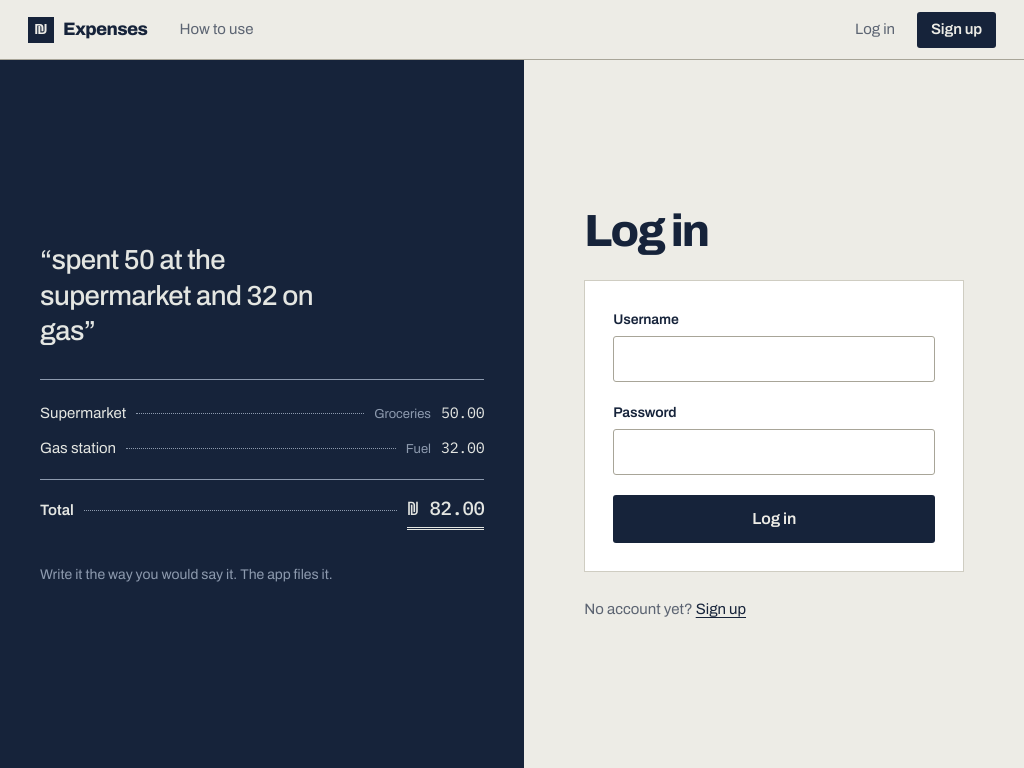
Scenario: LoginPage › shows one generic message when the credentials are wrong
This screenshot has width=1024, height=768.
Type "adam" into the field labelled "Username".
click(774, 359); type("adam")  # box [613,336,935,382]
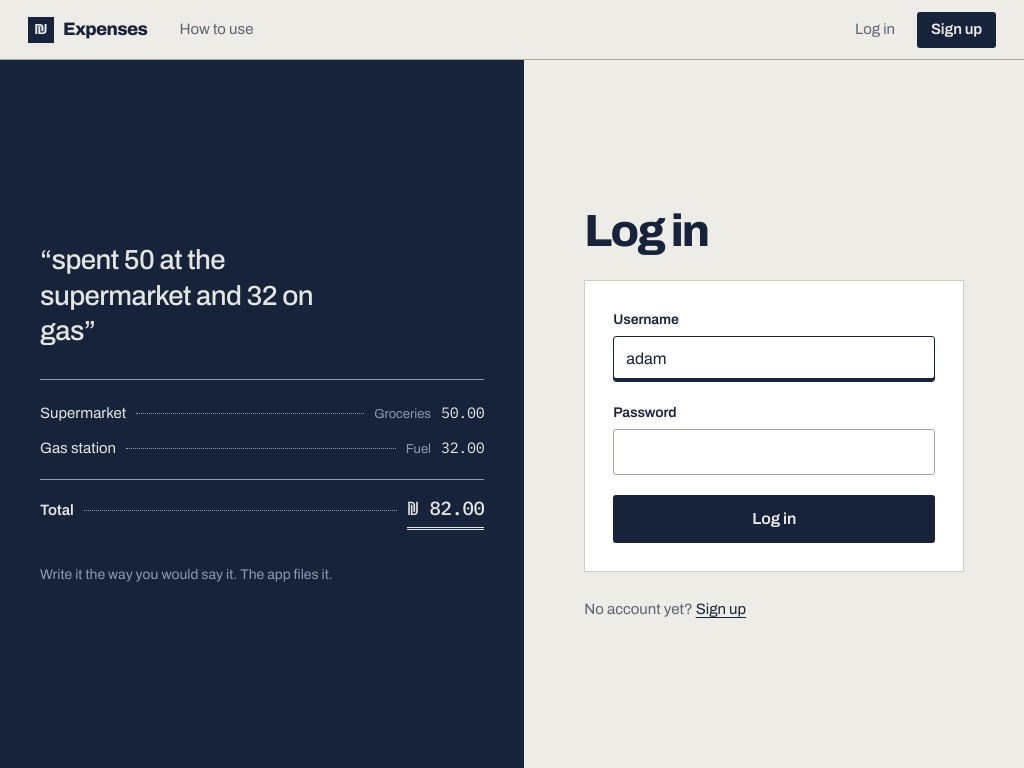
Type "wrong" into the password field labelled "Password".
click(774, 452); type("wrong")  # box [613,429,935,475]
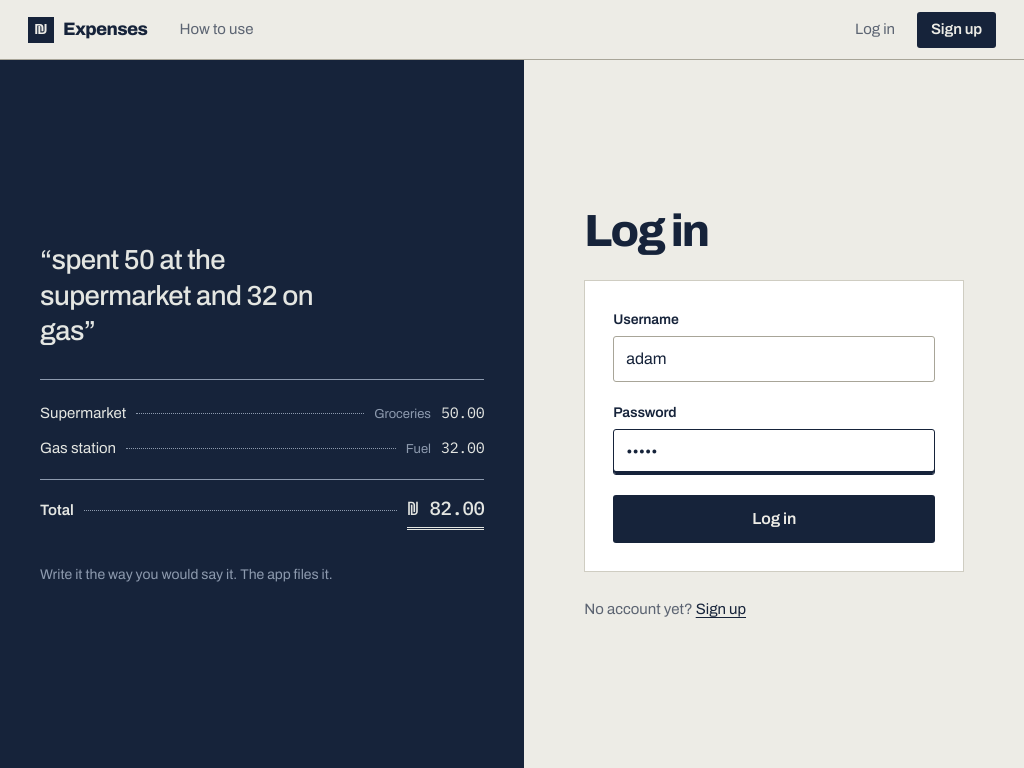
Click the button "Log in".
click(774, 519)  # box [613,495,935,543]
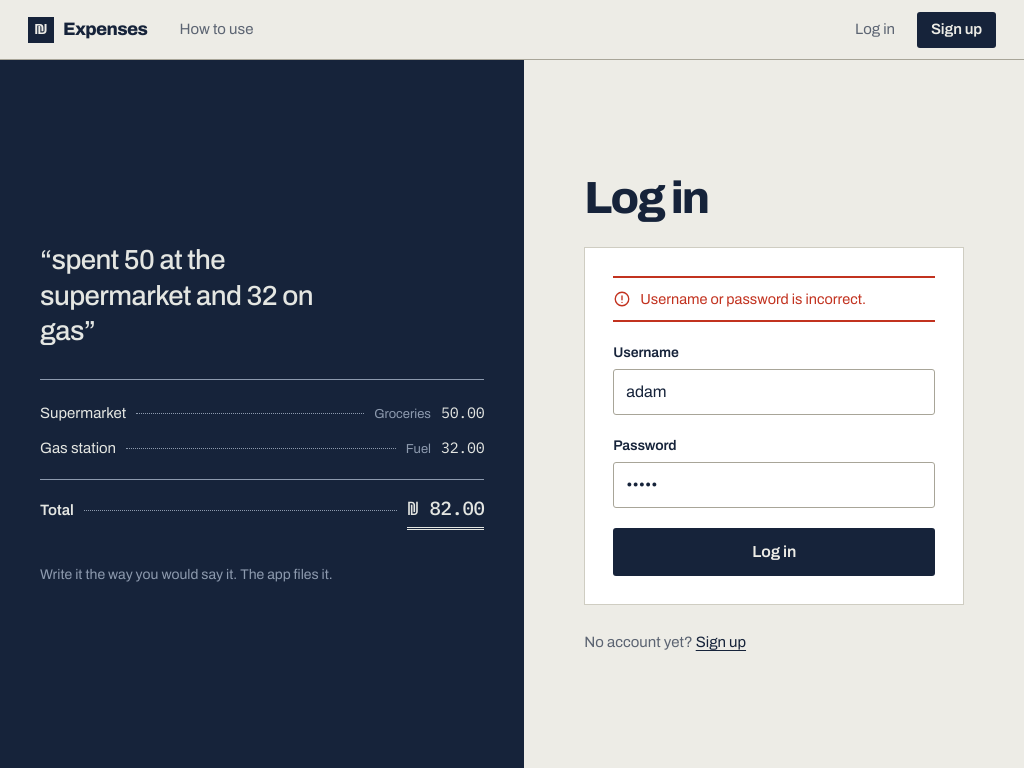
Expected: the message reads "Username or password is incorrect.", [640,291,866,307]
